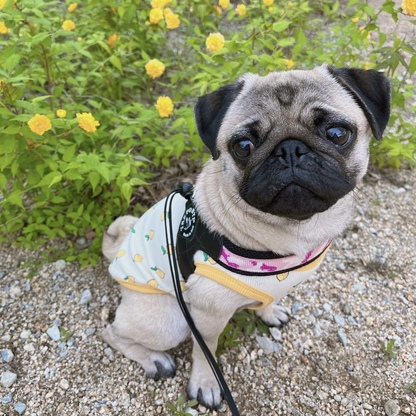Pug: (95, 60, 395, 416)
